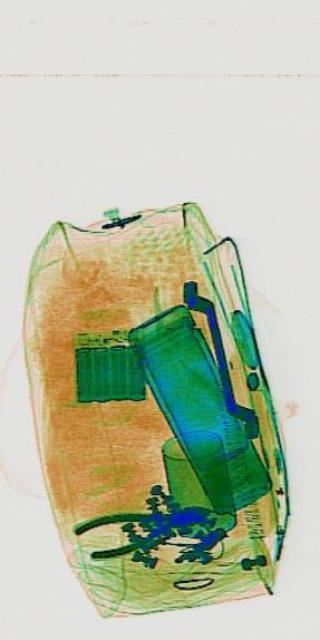Pliers: (72, 489, 210, 565)
